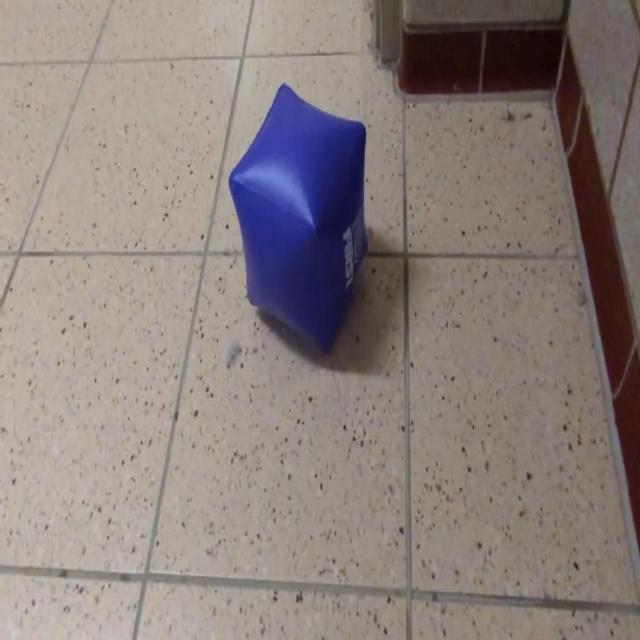frc_cube: (228, 82, 370, 356)
